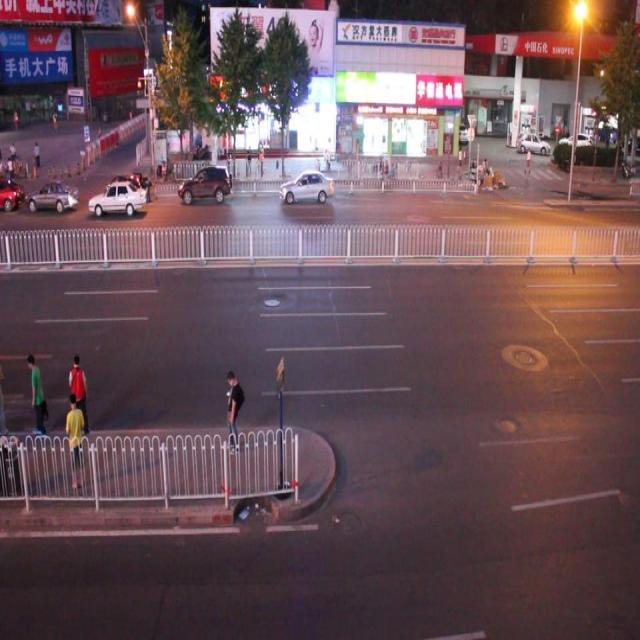car: (178, 162, 232, 203), (279, 168, 336, 206), (25, 178, 79, 214), (88, 179, 145, 213), (101, 180, 145, 223)
